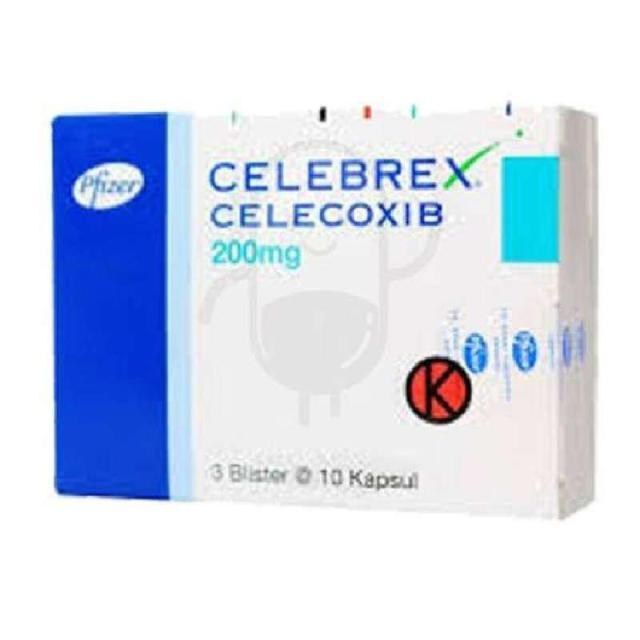drug-name: (205, 152, 482, 197)
